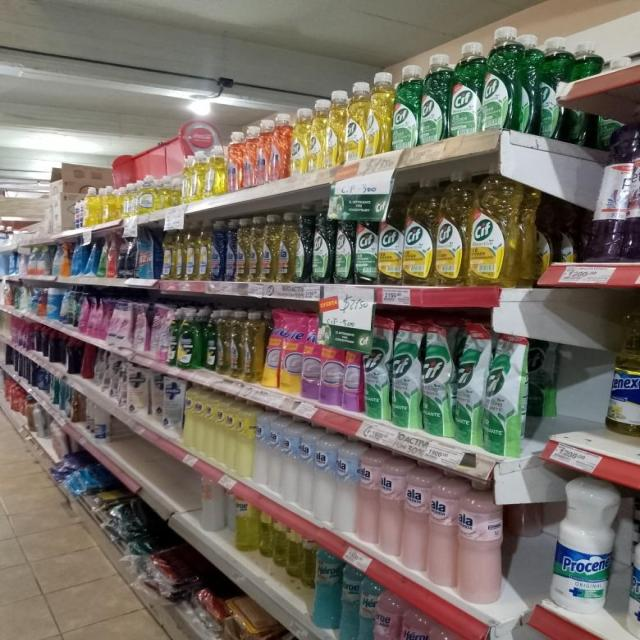ala_conc_amarillo: (278, 212, 296, 283), (262, 214, 278, 282), (237, 217, 250, 281), (249, 216, 261, 282)
ala_conc_azul: (211, 219, 226, 282), (226, 218, 236, 281)
ala_crem_amarillo: (237, 402, 254, 479), (205, 391, 218, 460), (184, 385, 197, 452), (226, 398, 237, 474), (194, 388, 206, 455), (216, 395, 226, 467)
ala_crem_blanco: (336, 438, 358, 536), (314, 431, 334, 525), (282, 420, 298, 506), (298, 427, 313, 515), (254, 410, 269, 488), (269, 413, 282, 498)
ala_crem_rosado: (457, 484, 506, 606), (428, 473, 457, 589), (403, 464, 428, 574), (379, 454, 403, 559), (358, 446, 379, 547)
cif_conc_bot_amarilla: (469, 167, 521, 288), (435, 171, 467, 287), (404, 178, 434, 286), (378, 182, 403, 286), (366, 70, 391, 156), (345, 82, 366, 162), (290, 107, 308, 177)
cif_conc_botella_verde: (482, 29, 513, 132), (450, 41, 480, 136), (420, 54, 448, 144), (392, 65, 419, 150), (354, 194, 378, 285), (312, 202, 333, 284), (334, 200, 354, 284), (297, 204, 311, 284)
cif_conc_sachet_verde: (422, 320, 453, 438), (391, 319, 420, 431), (363, 317, 390, 423)
heroe: (373, 589, 398, 640), (400, 606, 428, 640), (428, 621, 461, 640)
magistral_con_amarillo: (197, 219, 210, 281), (185, 220, 197, 281), (174, 222, 184, 281), (163, 223, 173, 280)
